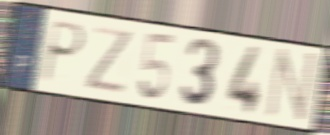3: (178, 36, 224, 110)
4: (225, 42, 263, 117)
5: (137, 31, 176, 102)
N: (263, 46, 321, 127)
P: (37, 17, 88, 86)
Z: (83, 24, 136, 97)
